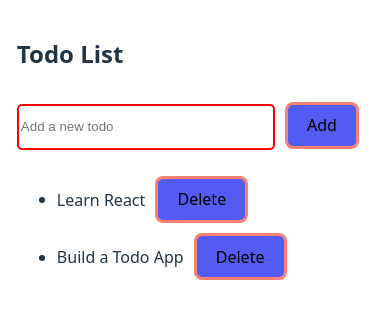
Test: TodoList Component › adds a new todo
Type "Write tests" into the field with placeholder "Add a new todo" at (146, 127), box x1=17 y1=104 x2=275 y2=150
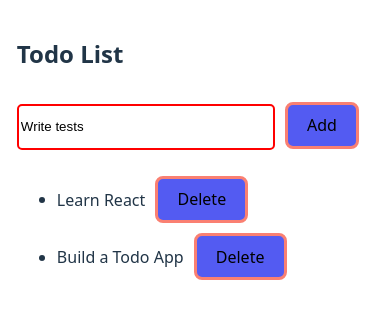
Click the button "Add" at (322, 125), box x1=285 y1=102 x2=359 y2=149
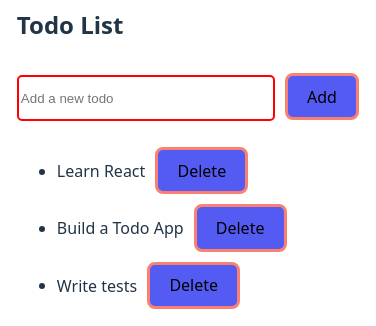
Result: the list item "Write tests" is shown at x1=57 y1=274 x2=137 y2=296
